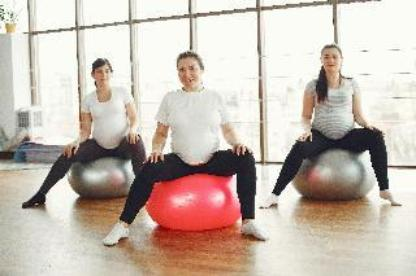person: (128, 48, 266, 242), (270, 39, 406, 222), (27, 51, 154, 208)
